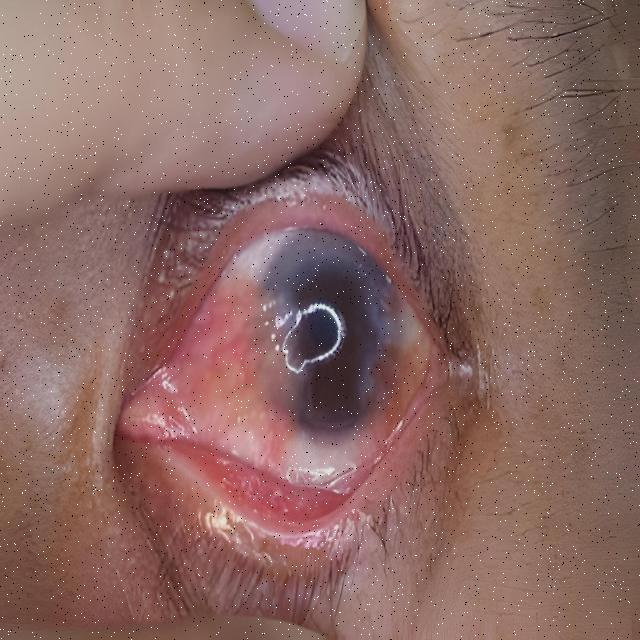Pterygium: (128, 272, 302, 460), (369, 296, 442, 408)
